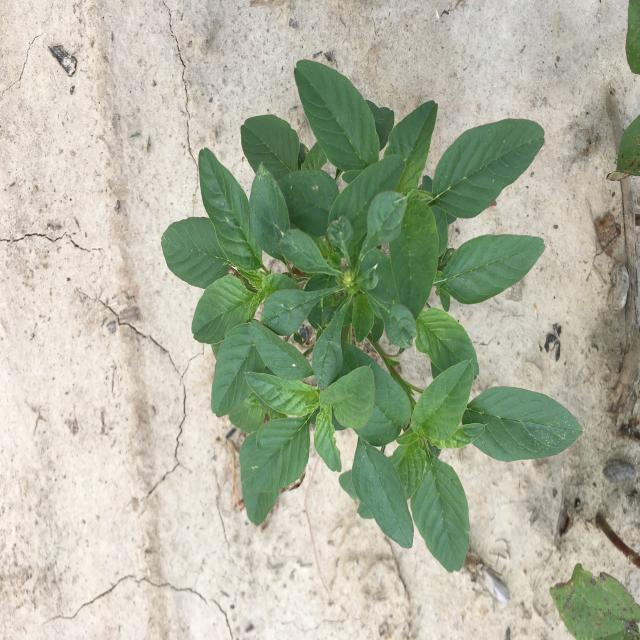PalmerAmaranth: (161, 59, 584, 574)
